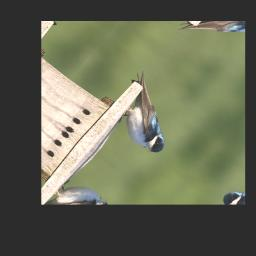Swallow: (96, 66, 197, 159)
